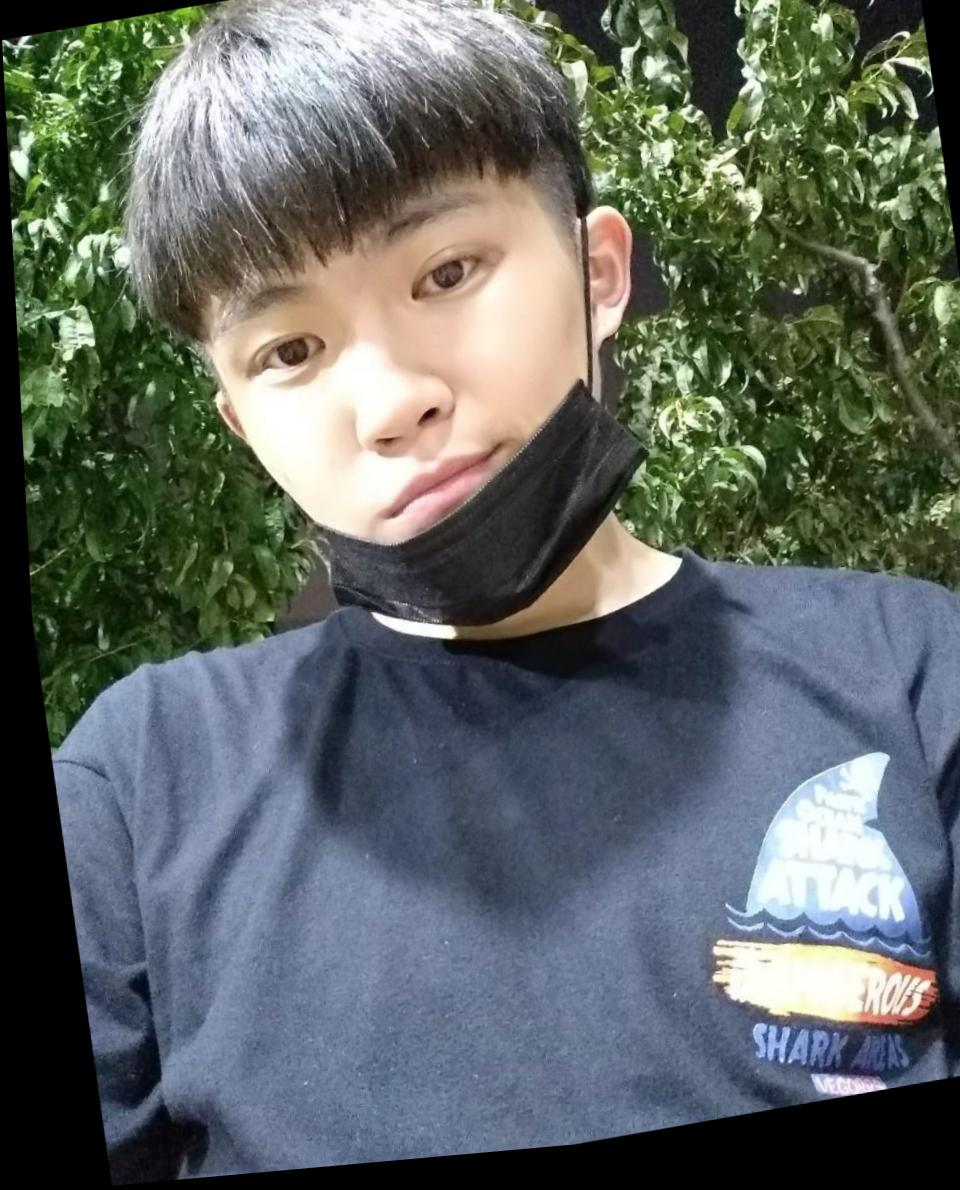WRONG: (180, 137, 632, 676)
